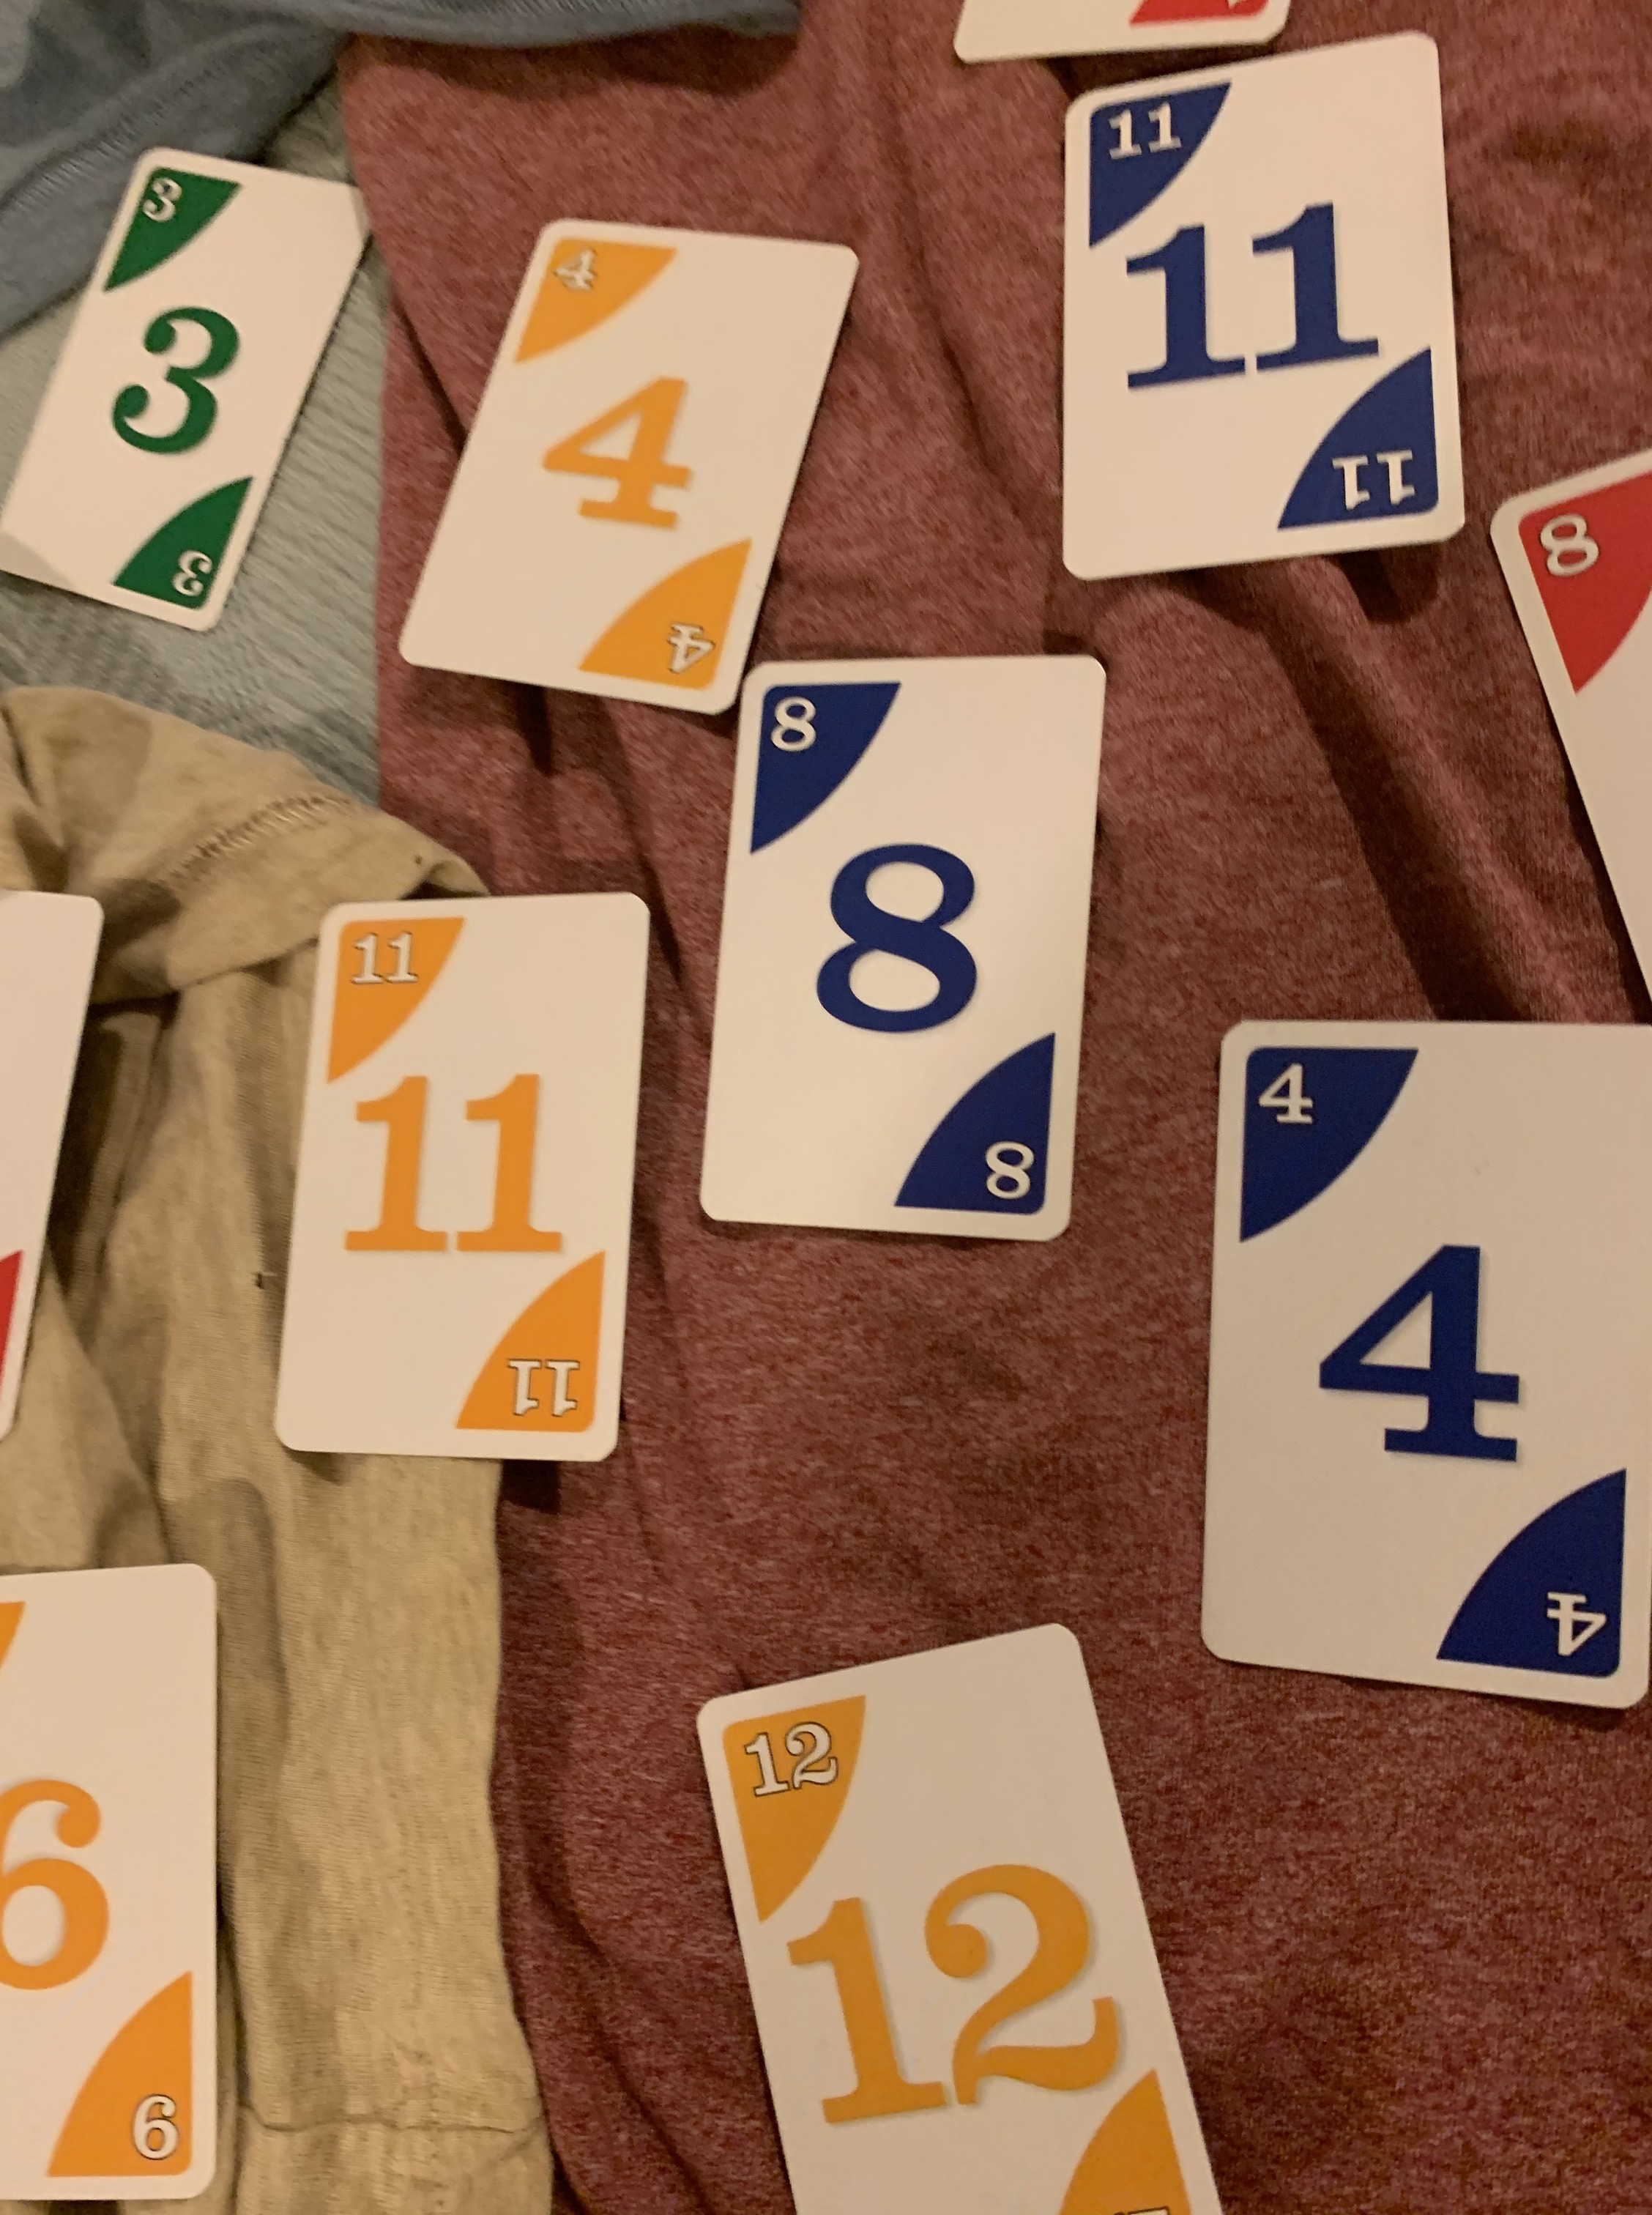eight: (685, 656, 1111, 1245)
eleven: (1046, 31, 1478, 590), (259, 896, 639, 1469)
four: (1192, 1019, 1652, 1741), (443, 215, 862, 719)
three: (12, 144, 392, 634)
twelve: (698, 1623, 1230, 2215)
